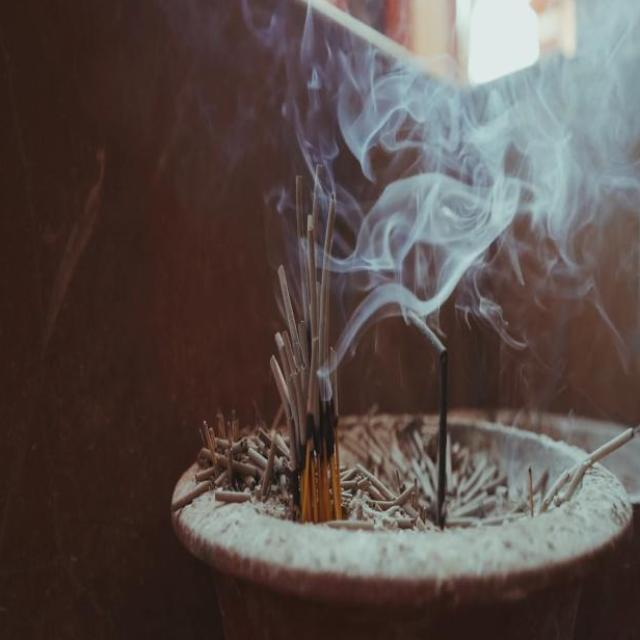fire: (263, 0, 640, 404)
